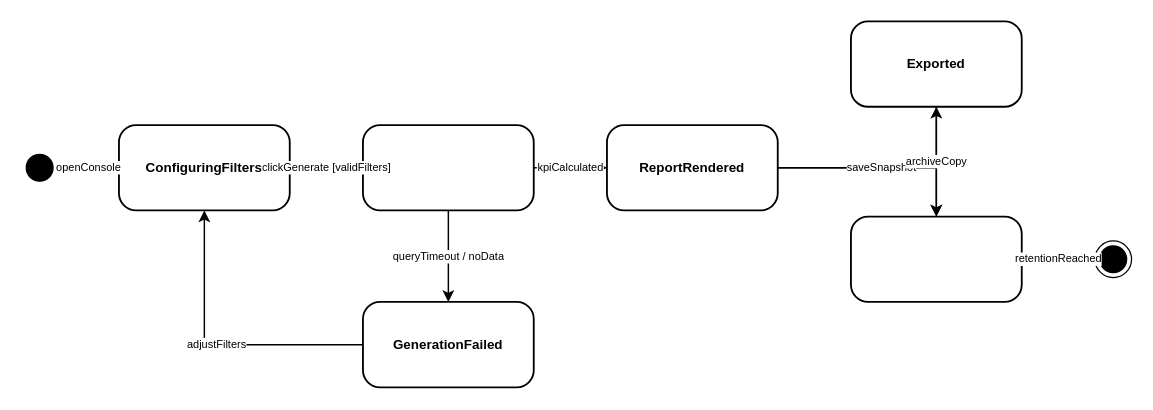
The diagram is 1153 pixels wide and 410 high, and some of its shapes have lost their labels. Each missing label, with the centre of its shape:
"AggregatingData" belongs at point 447,167.
"Archived" belongs at point 935,258.
